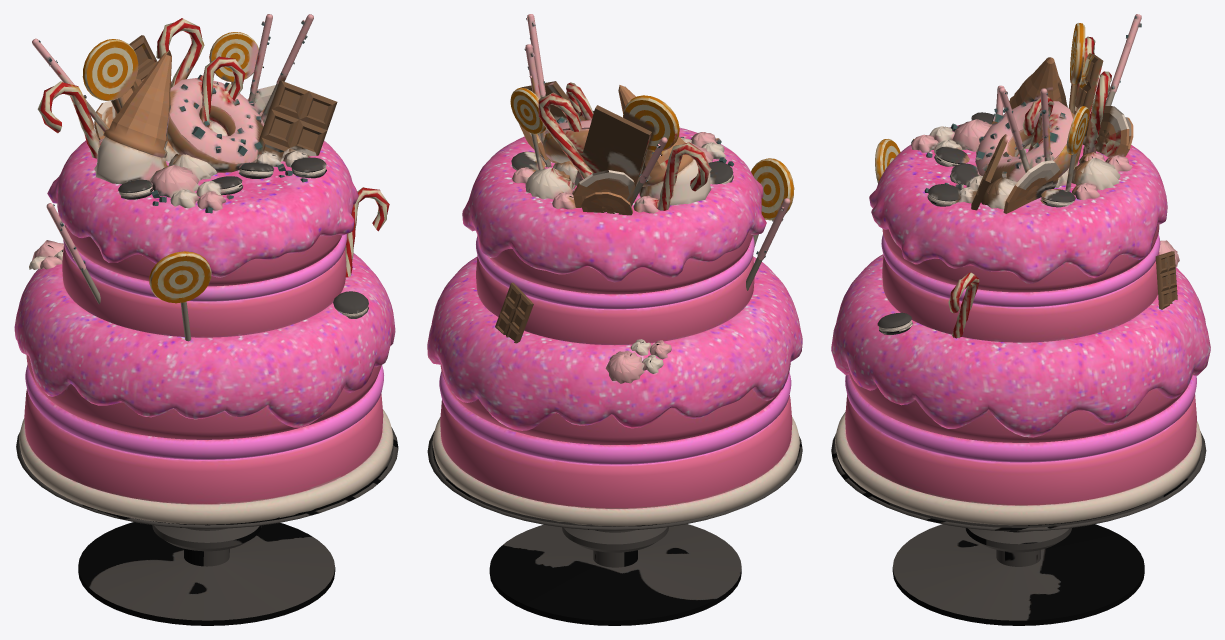
File: STRAWB.glb
The picture shows the model from 3 angles, left to right: view 1: azimuth 30°, elevation 25°; view 2: azimuth 150°, elevation 25°; view 3: azimuth 270°, elevation 25°; orthographic projection.
Parts seen in each view (by area): view 1: ST CAKE; view 2: ST CAKE; view 3: ST CAKE.
Part boxes in pixels (x1,y1,x2,y2): ST CAKE: (14, 14, 398, 625); ST CAKE: (427, 14, 802, 625); ST CAKE: (831, 14, 1210, 625).
Bounding box in the file's own units: 0.1133 × 0.1749 × 0.1135.
3 materials, 3 textured.
